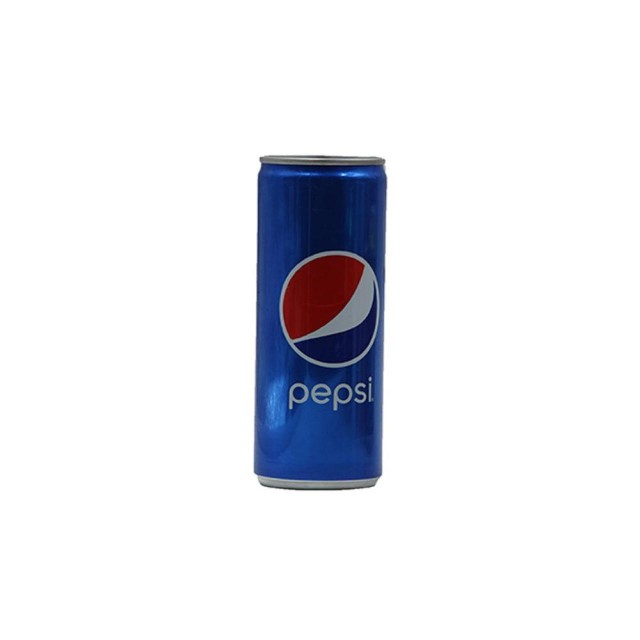pepsi: (279, 246, 384, 370)
